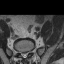CCS_normal: (23, 50, 25, 60)
LFS_stenosis: (28, 48, 30, 55)
LLS_normal: (25, 50, 28, 58)
RFS_stenosis: (18, 48, 21, 55)
RLS_normal: (21, 50, 23, 59)
